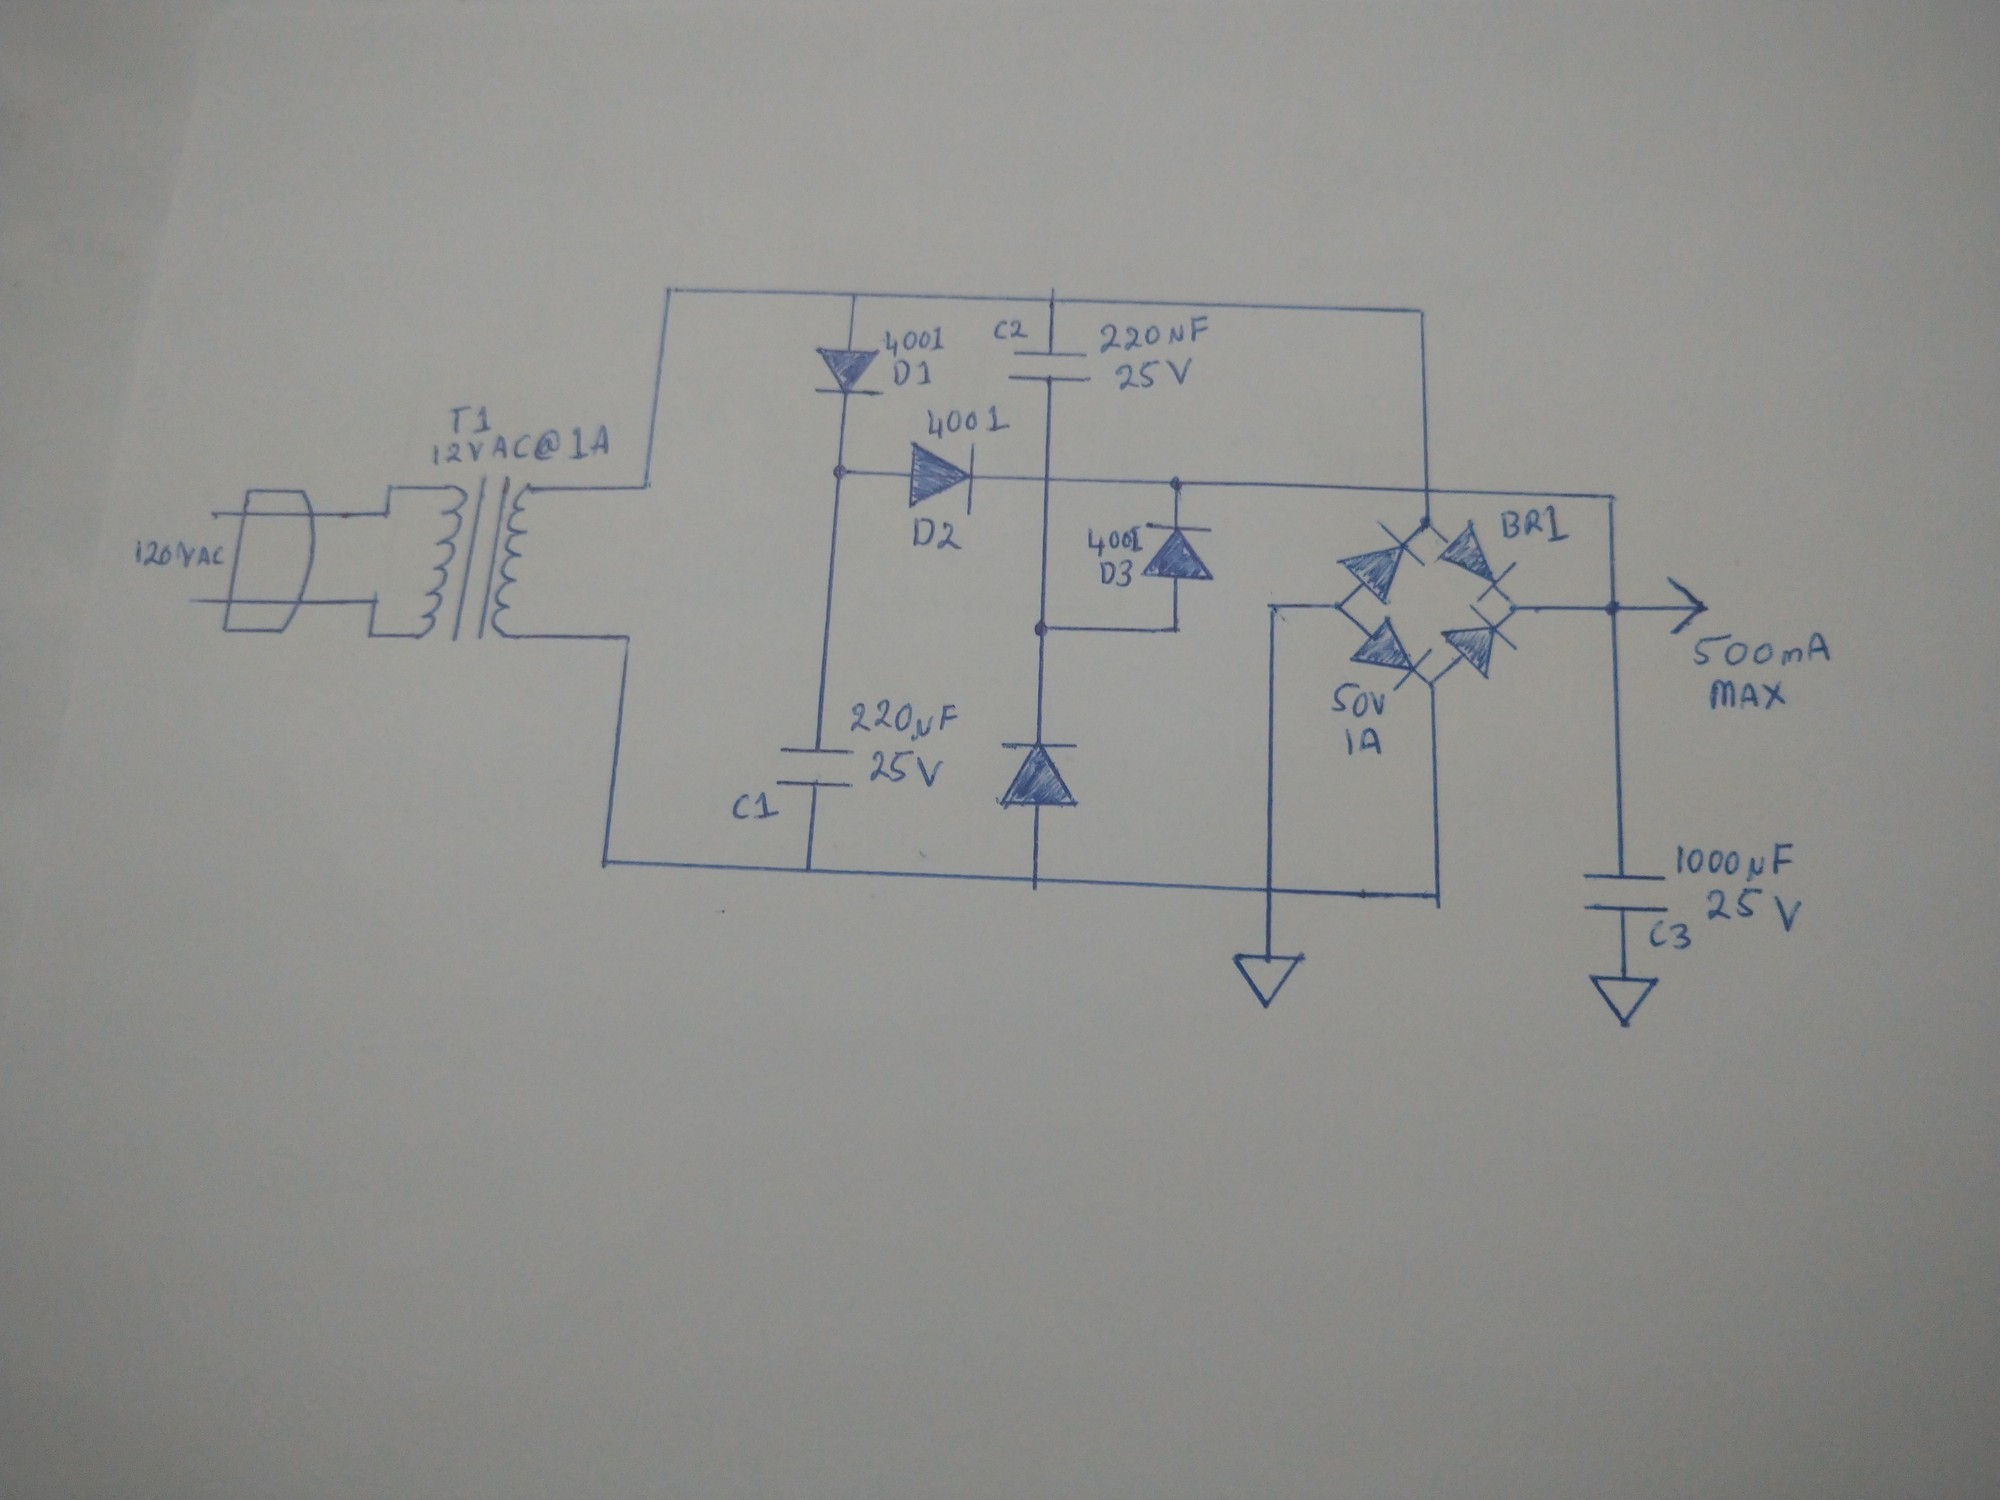capacitor.unpolarized: (773, 744, 861, 793), (1581, 870, 1671, 914), (1005, 348, 1091, 384)
crossover: (1416, 481, 1439, 501), (1039, 470, 1057, 488), (1261, 881, 1279, 897)
diode: (1335, 518, 1425, 605), (1436, 520, 1517, 600), (1439, 603, 1521, 682), (1348, 614, 1431, 692), (994, 737, 1083, 808), (1139, 514, 1219, 585), (906, 440, 978, 517), (813, 345, 885, 399)
junction: (1164, 470, 1192, 496), (1028, 614, 1057, 641), (1598, 596, 1622, 621), (828, 460, 852, 484), (1425, 889, 1450, 911), (1165, 616, 1187, 640), (1024, 871, 1044, 892), (1416, 514, 1436, 533), (1044, 291, 1063, 310), (1504, 600, 1523, 618), (1422, 674, 1439, 693), (598, 852, 614, 873), (1602, 490, 1617, 509), (1261, 599, 1280, 614), (802, 860, 816, 881), (1413, 304, 1428, 321), (661, 280, 677, 298), (619, 630, 635, 648), (367, 592, 386, 607), (1331, 599, 1346, 614), (364, 627, 380, 643), (847, 288, 860, 303), (384, 482, 398, 495), (380, 509, 394, 522), (638, 481, 650, 492)
socket: (220, 484, 320, 637)
terminal: (1230, 950, 1306, 1015), (1587, 975, 1661, 1034), (1665, 574, 1710, 637), (202, 503, 224, 523), (180, 592, 202, 611)
text: (431, 421, 620, 468), (846, 693, 965, 744), (1691, 629, 1831, 668), (1674, 840, 1794, 886), (1702, 886, 1805, 936), (1098, 314, 1209, 355), (1498, 501, 1573, 548), (131, 537, 228, 574), (869, 748, 945, 791), (924, 403, 1011, 440), (1113, 356, 1198, 392), (1710, 678, 1791, 715), (909, 515, 967, 555), (1331, 681, 1387, 718), (1085, 525, 1143, 559), (883, 328, 946, 358), (1643, 917, 1693, 953), (729, 789, 783, 822), (446, 403, 494, 440), (1343, 726, 1384, 759), (891, 359, 935, 389), (1098, 559, 1135, 589), (992, 318, 1030, 342)
transformer: (416, 473, 535, 649)
